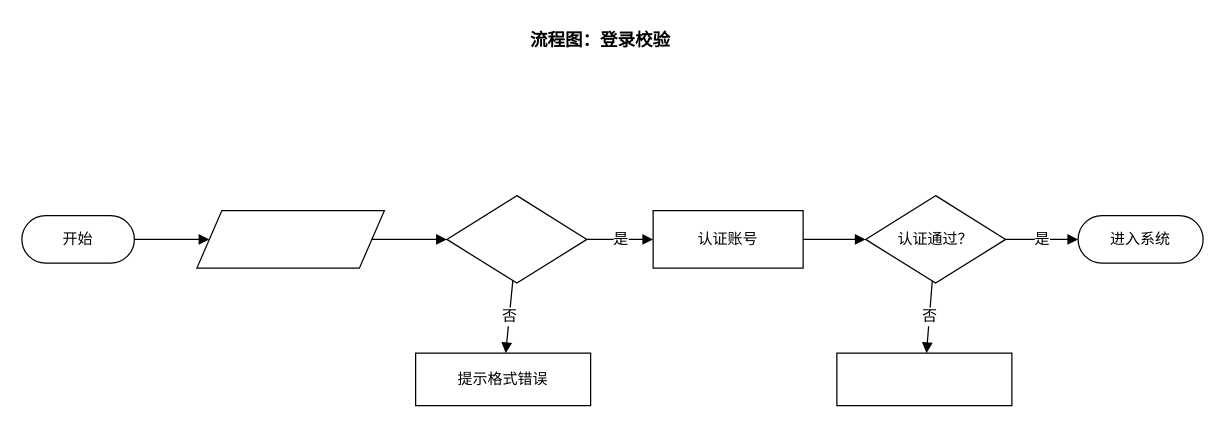
This 1225x428 diagram has some shape labels left out. Each missing label, with the centre of its shape:
"提示认证失败" goes at [924,379].
"格式正确？" goes at [516,238].
"输入账号和密码" goes at [290,238].
